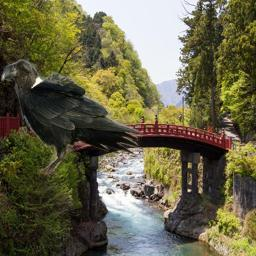Crow: (0, 58, 143, 177)
